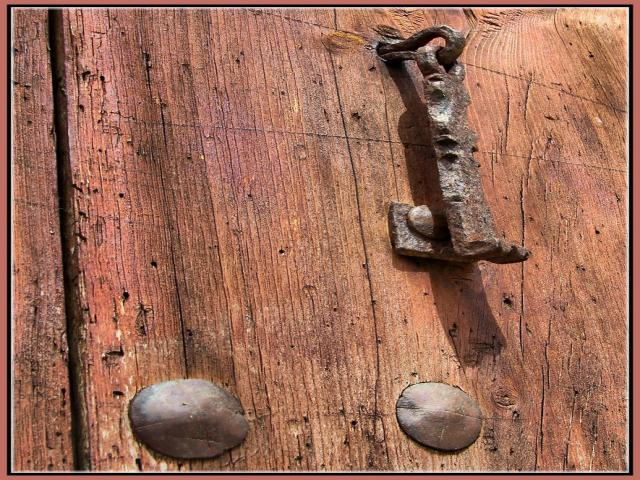Door-handle: (378, 19, 540, 268)
